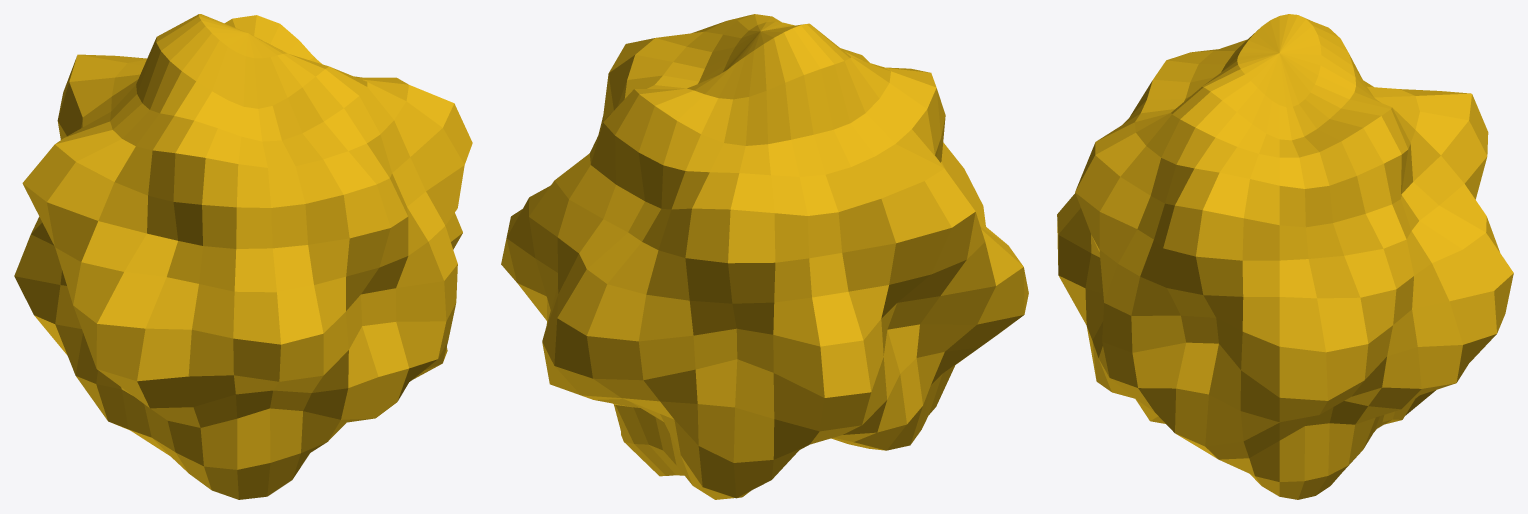
Rendered from meteoro2.fbx.
The picture shows the model from 3 angles, left to right: view 1: azimuth 30°, elevation 25°; view 2: azimuth 150°, elevation 25°; view 3: azimuth 270°, elevation 25°; orthographic projection. The views are drawn at different scales.
Visible parts, largest first — view 1: Esfera.001; view 2: Esfera.001; view 3: Esfera.001.
Boxes of the visible parts, x1,y1,x2,y2 form: Esfera.001: (14,14,472,499); Esfera.001: (501,14,1028,499); Esfera.001: (1057,14,1513,499).
Size of the model in its own units: 230 by 230 by 223.
